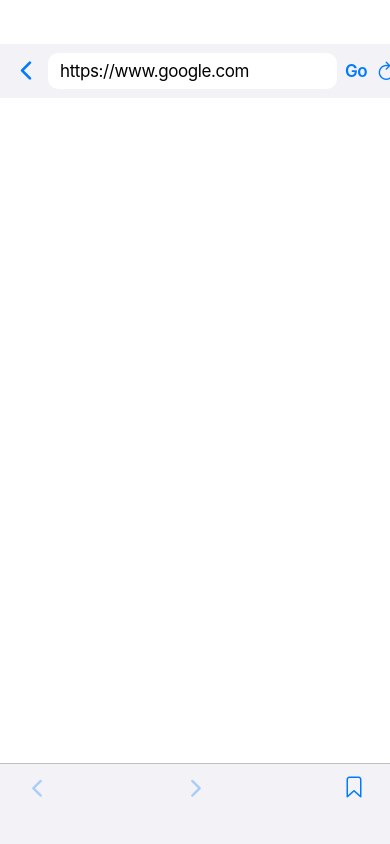
Test: BrowserScreen — bookmarks list modal › the list is empty-state when no bookmarks exist
This screenshot has width=390, height=844.
Click the button named "Bookmarks" at (354, 788), box [342,774,366,802]
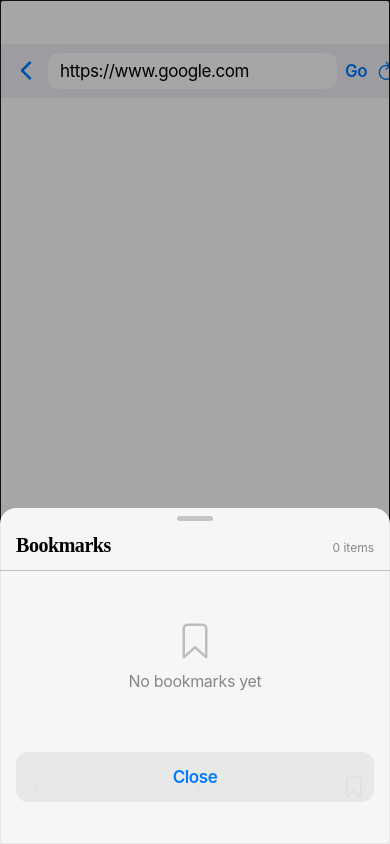
Now the text "No bookmarks yet" is shown, box [128,671,262,692]
